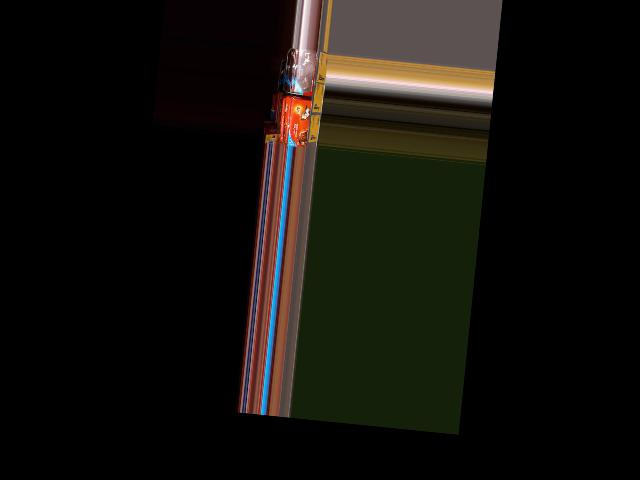chocolate: (291, 47, 322, 92)
